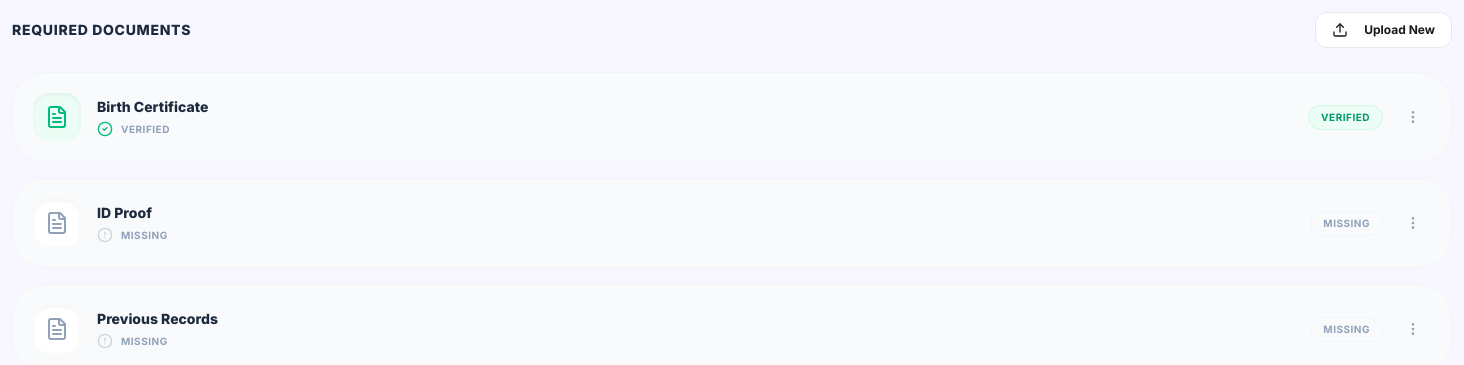
DocumentVerification › does not show a 'Verify Document' option for an already-verified document
The image size is (1464, 365).
Step 1. Click the button without text in the row of "Birth Certificate" → (1413, 117), box [1395, 99, 1431, 135]
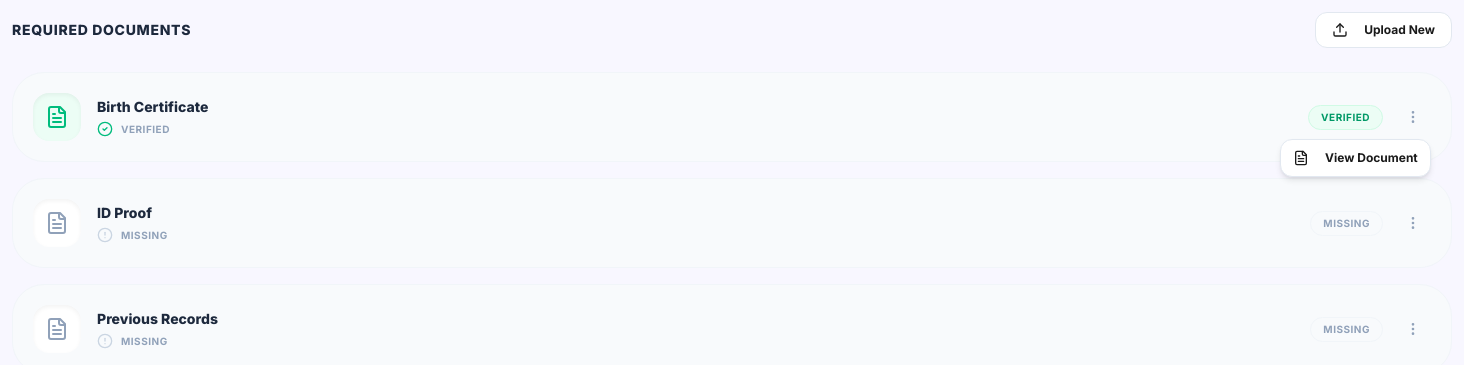
Result: the menu item "View Document" is shown at [1293, 150, 1418, 166]
